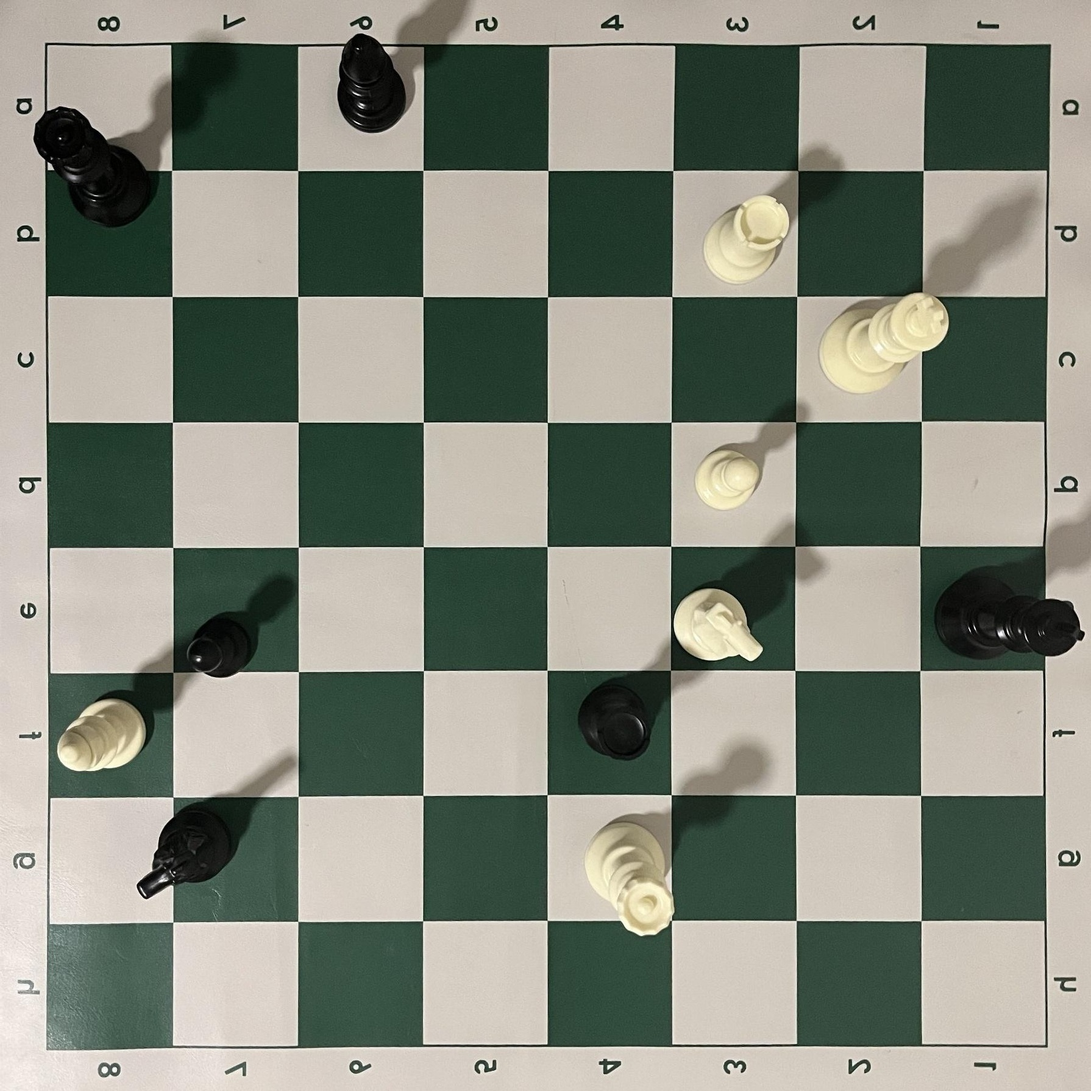black_bishop: (337, 32, 407, 133)
black_king: (933, 572, 1086, 662)
black_knight: (136, 802, 236, 900)
black_pawn: (187, 610, 255, 678)
black_queen: (33, 106, 152, 227)
black_rook: (576, 681, 651, 761)
white_bishop: (57, 697, 147, 773)
white_king: (819, 292, 949, 395)
white_knight: (673, 586, 764, 664)
white_pawn: (694, 449, 761, 511)
white_queen: (583, 821, 675, 937)
white_rook: (703, 194, 791, 285)
